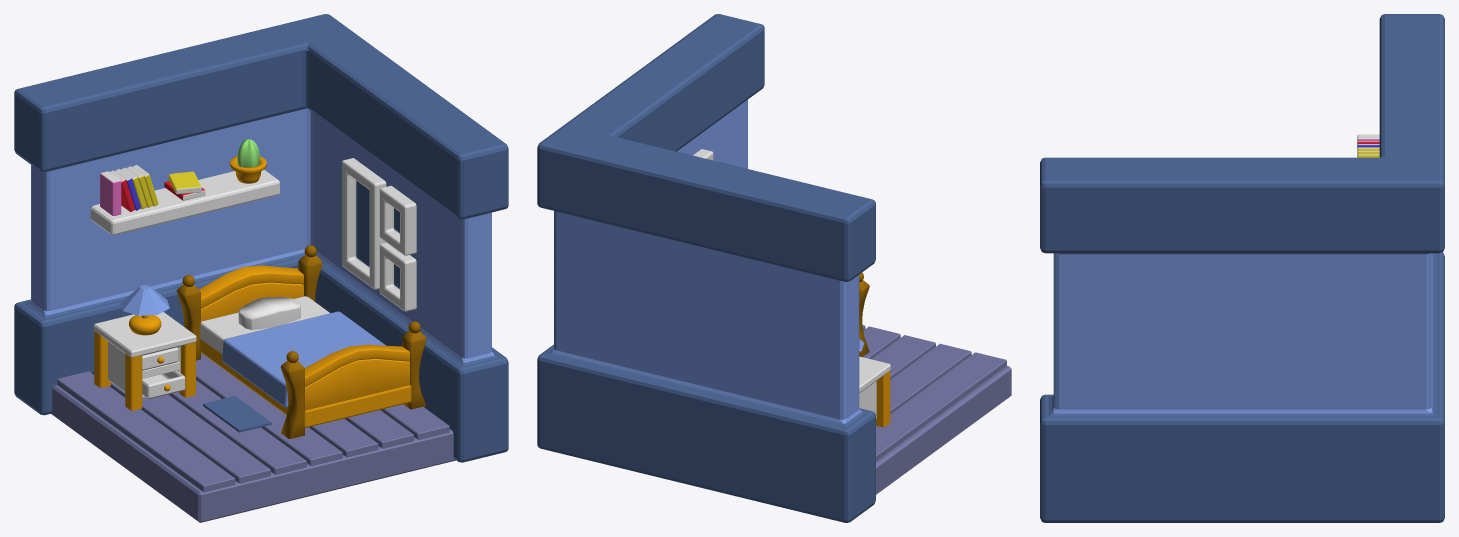
File: Bedroom.glb
3 views of the same model, side by side, from view 1: azimuth 30°, elevation 25°; view 2: azimuth 150°, elevation 25°; view 3: azimuth 270°, elevation 25° (orthographic). The views are drawn at different scales.
Parts seen in each view (by area): view 1: Wall, Floor Planks, Floor, Head board, Picture frame, Blanket, Bedside cupboard, Shelf, Bed poles left, Bed middle, Bedside cupboard legs, Bed poles right (+7 smaller); view 2: Wall, Floor Planks, Floor, Bedside cupboard, Bedside cupboard legs; view 3: Wall.
Part boxes in pixels (left/top/right/bottom): Wall: left=14, top=14, right=508, bottom=462; Floor Planks: left=57, top=353, right=449, bottom=492; Floor: left=51, top=385, right=455, bottom=522; Head board: left=199, top=265, right=409, bottom=410; Picture frame: left=342, top=158, right=416, bottom=311; Blanket: left=222, top=311, right=385, bottom=407; Bedside cupboard: left=93, top=312, right=196, bottom=399; Shelf: left=90, top=170, right=279, bottom=235; Bed poles left: left=176, top=275, right=304, bottom=438; Bed middle: left=200, top=339, right=411, bottom=427; Bedside cupboard legs: left=94, top=331, right=195, bottom=410; Bed poles right: left=298, top=245, right=426, bottom=409; Wall: left=537, top=14, right=875, bottom=522; Floor Planks: left=862, top=324, right=1006, bottom=461; Floor: left=876, top=366, right=1011, bottom=494; Bedside cupboard: left=859, top=356, right=890, bottom=419; Bedside cupboard legs: left=876, top=371, right=890, bottom=427; Wall: left=1040, top=14, right=1444, bottom=522.
Size of what is drawn, in the model's own units: 2.15 by 2.01 by 2.15.
